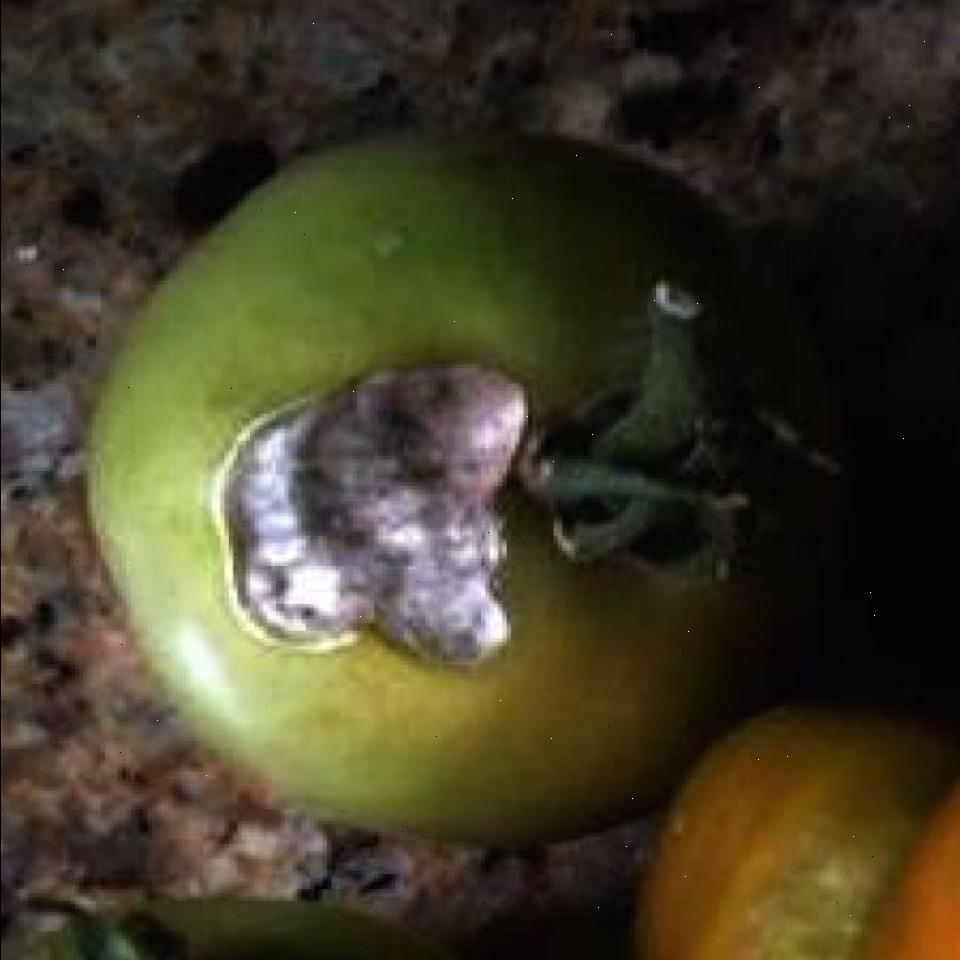Blossom_end_rot: (200, 284, 585, 687)
